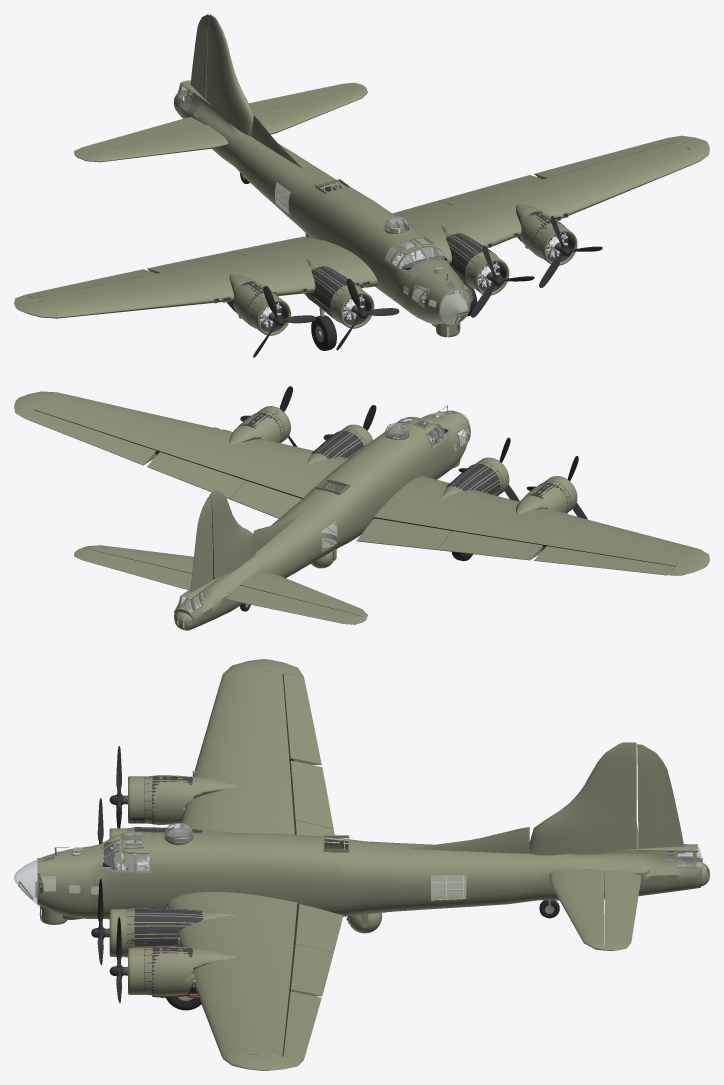
3 views of the same model, one above another, from view 1: azimuth 30°, elevation 25°; view 2: azimuth 150°, elevation 25°; view 3: azimuth 270°, elevation 25° (orthographic). The views are drawn at different scales.
Parts seen in each view (by area): view 1: wing_outer_L, wing_outer_R, fus_waist, B17G, fin, wing_mid_L, wing_inner_R, wing_mid_R, fus_nose, fus_cockpit, stab_R, wing_inner_L (+25 smaller); view 2: fus_waist, wing_outer_L, B17G, wing_mid_L, wing_outer_R, wing_inner_R, wing_mid_R, fin, wing_inner_L, aileron_L, elevator_R, flap_inner_R (+21 smaller); view 3: fus_waist, fin, B17G, wing_outer_R, wing_mid_R, wing_outer_L, fus_cockpit, wing_inner_L, wing_mid_L, fus_tail, fus_nose, rudder (+16 smaller).
Part boxes in pixels (x1,y1,x2,y2): wing_outer_L: (547,141,699,209); wing_outer_R: (33,273,194,318); fus_waist: (242,142,345,235); B17G: (325,195,422,295); fin: (206,14,302,168); wing_mid_L: (454,178,583,243); wing_inner_R: (246,240,378,294); wing_mid_R: (159,256,292,304); fus_nose: (409,265,473,327); fus_cockpit: (382,234,456,314); stab_R: (77,125,228,162); wing_inner_L: (402,205,499,264); fus_waist: (265,486,355,577); wing_outer_L: (34,392,192,454); B17G: (326,425,432,522); wing_mid_L: (158,423,288,480); wing_outer_R: (545,518,698,566); wing_inner_R: (373,476,496,530); wing_mid_R: (454,496,580,548); fin: (209,489,302,579); wing_inner_L: (247,445,348,498); aileron_L: (25,410,156,465); elevator_R: (226,585,364,624); flap_inner_R: (356,518,452,549); fus_waist: (339,838,508,916); fin: (409,742,636,855); B17G: (153,832,292,908); wing_outer_R: (198,670,289,759); wing_mid_R: (181,752,293,820); wing_outer_L: (197,984,289,1057); fus_cockpit: (88,831,154,919); wing_inner_L: (166,891,297,945); wing_mid_L: (181,935,293,992); fus_tail: (507,844,645,904); fus_nose: (14,846,89,919); rudder: (637,744,685,854).
Size of the model in its own units: 31.58 by 8.03 by 22.59.
